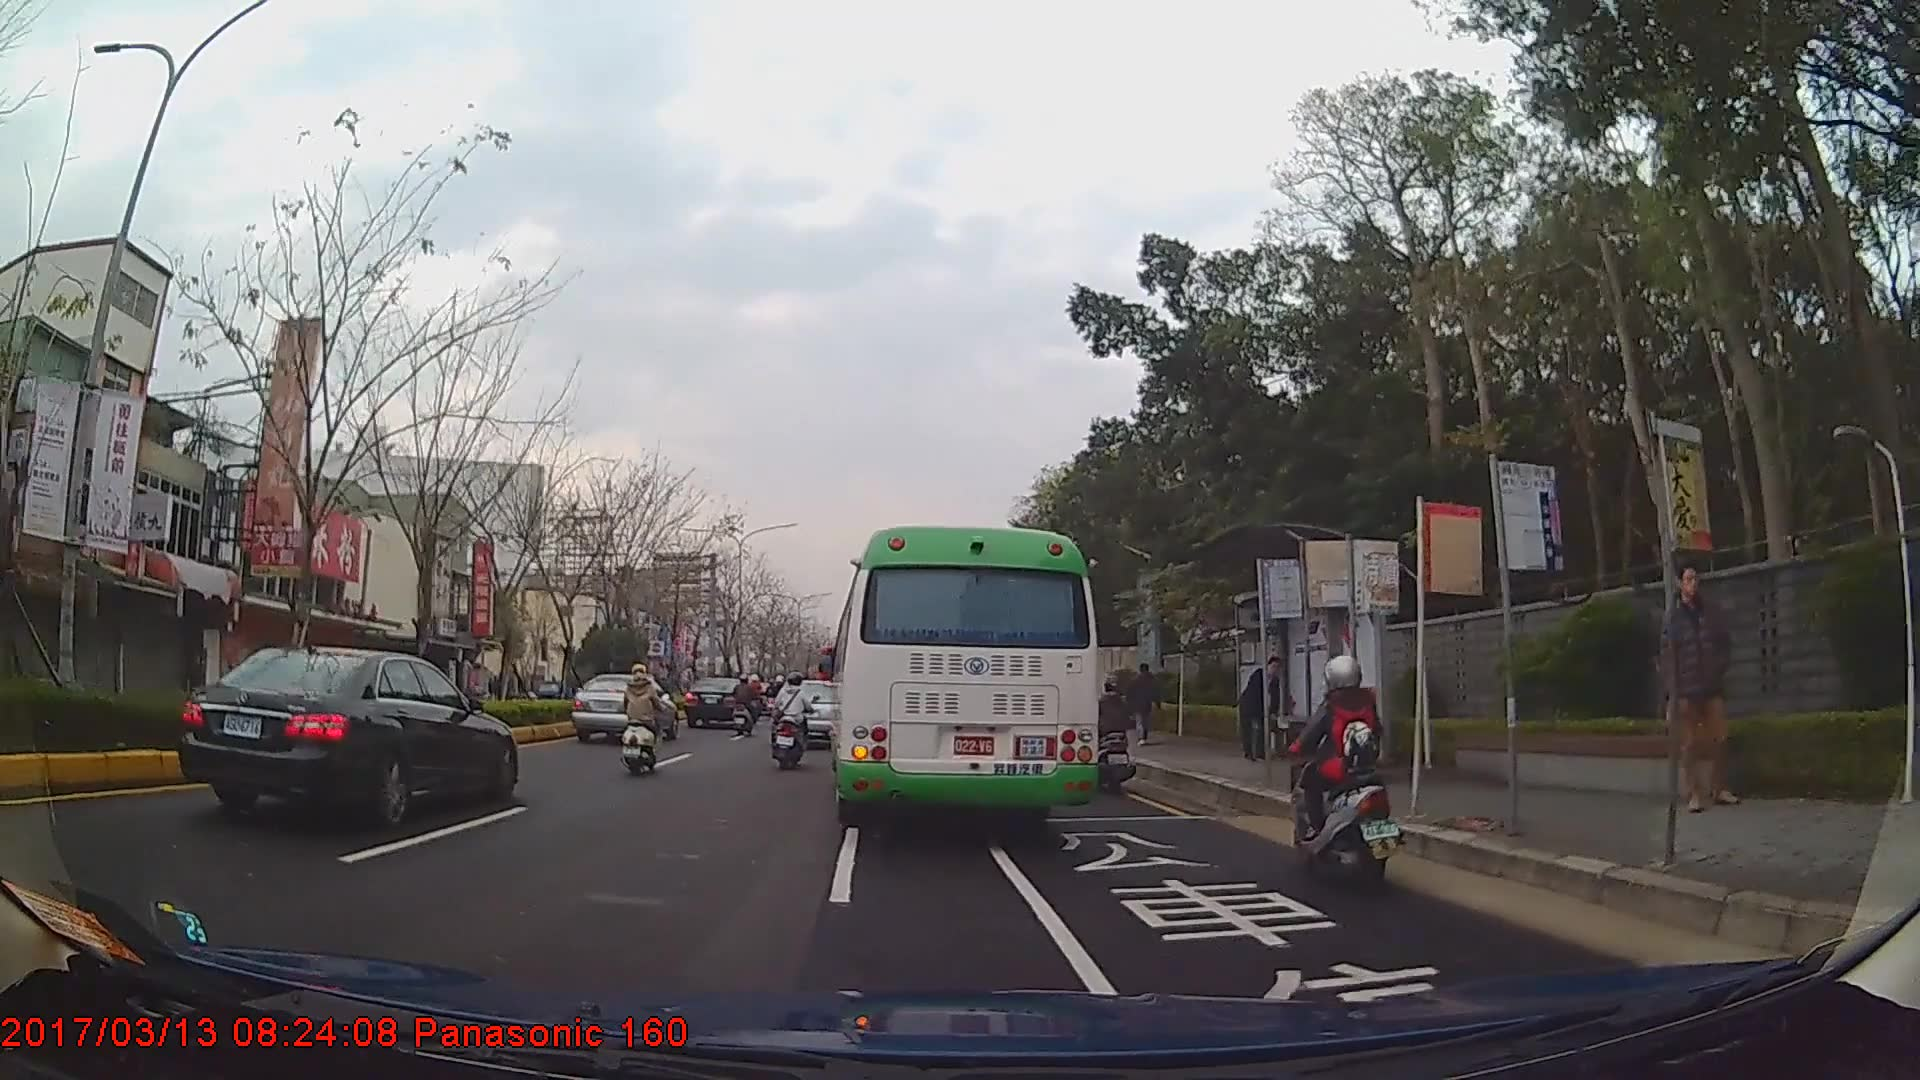pedestrian: (1660, 571, 1736, 814), (1236, 656, 1293, 763), (1128, 662, 1163, 746)
rider: (1289, 655, 1407, 889), (1094, 677, 1147, 796), (623, 663, 672, 776), (775, 673, 819, 772), (733, 675, 761, 736)
vehicle: (830, 527, 1104, 833), (176, 642, 518, 832), (573, 672, 679, 744), (784, 680, 844, 744), (686, 676, 753, 730)
